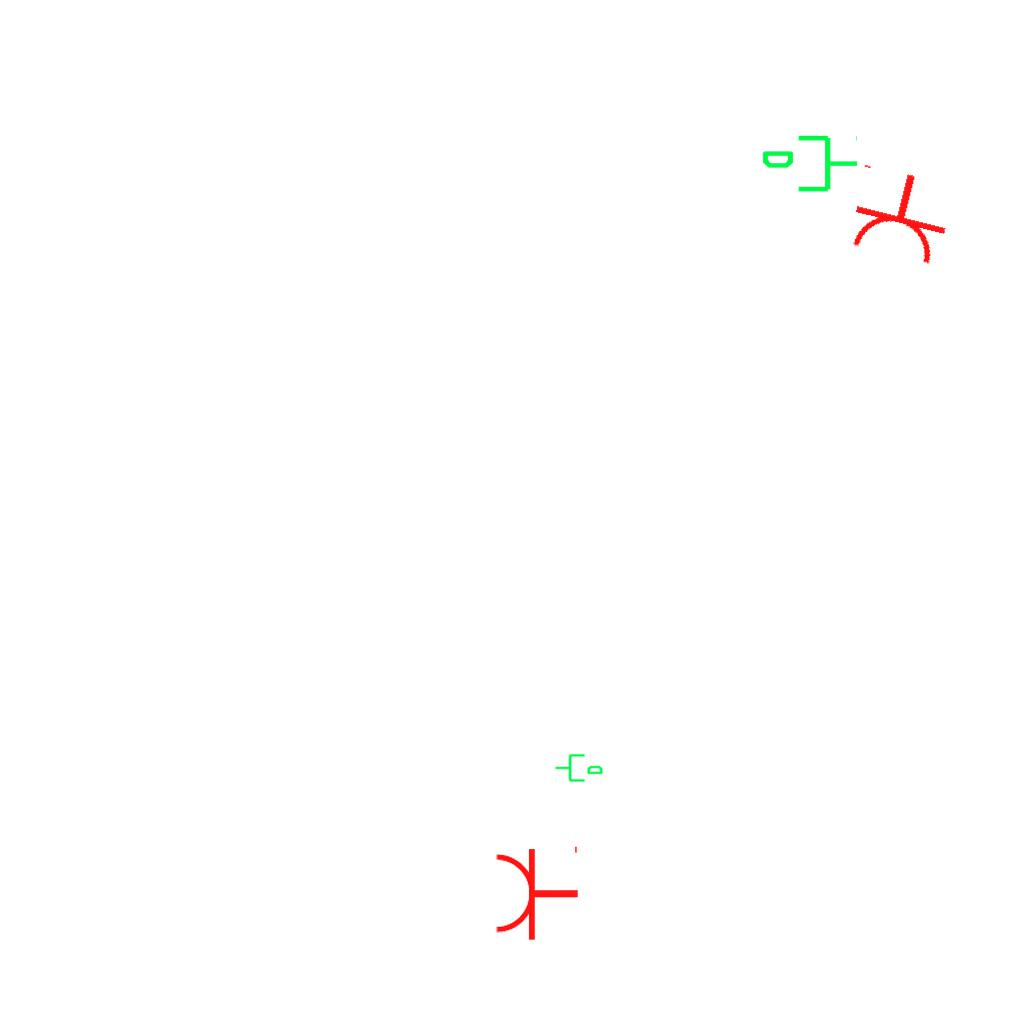Datenanschluss_einfach: (760, 131, 860, 200), (554, 750, 604, 784)
Schukosteckdose_einfach: (840, 160, 959, 270), (493, 842, 580, 942)
